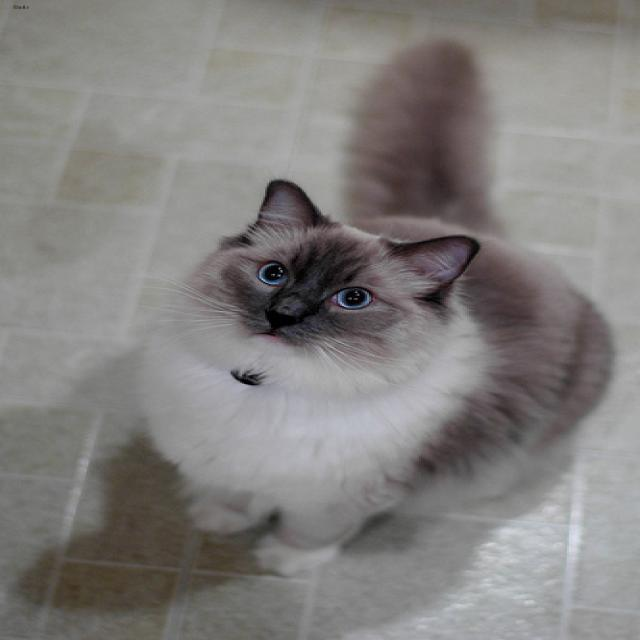Ragdoll: (172, 173, 481, 396)
